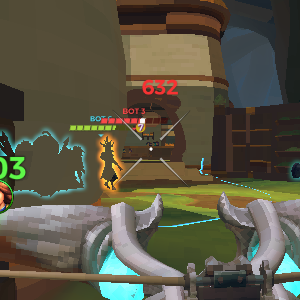model: (99, 132, 123, 195)
